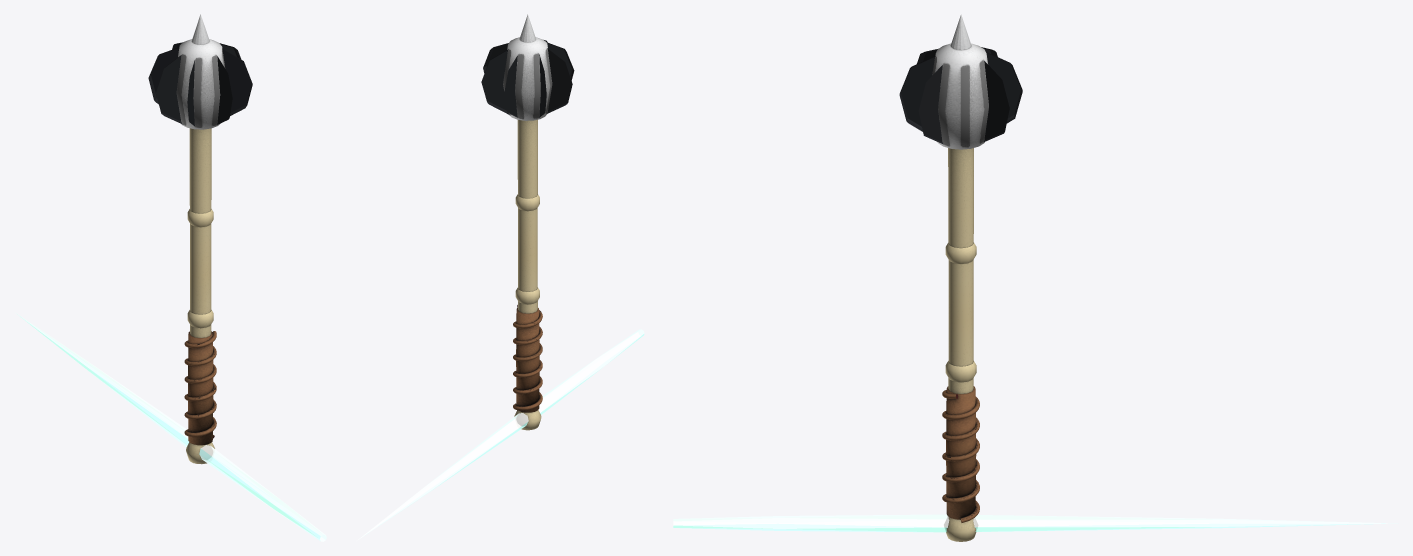
Rendered from arma_maca_excelente.glb.
The picture shows the model from 3 angles, left to right: view 1: azimuth 30°, elevation 25°; view 2: azimuth 150°, elevation 25°; view 3: azimuth 270°, elevation 25°; orthographic projection. The views are drawn at different scales.
Parts seen in each view (by area): view 1: arma_maca_excelente, pomo_gema; view 2: arma_maca_excelente, pomo_gema; view 3: arma_maca_excelente, pomo_gema.
Part boxes in pixels (box(x1,y1,x2,y2)): arma_maca_excelente: box(148, 14, 252, 464); pomo_gema: box(16, 313, 326, 541); arma_maca_excelente: box(481, 14, 574, 430); pomo_gema: box(357, 329, 644, 540); arma_maca_excelente: box(899, 14, 1022, 541); pomo_gema: box(673, 514, 1397, 532).
Bounding box in the file's own units: 0.1693 × 0.7988 × 1.
2 materials, 1 textured.
